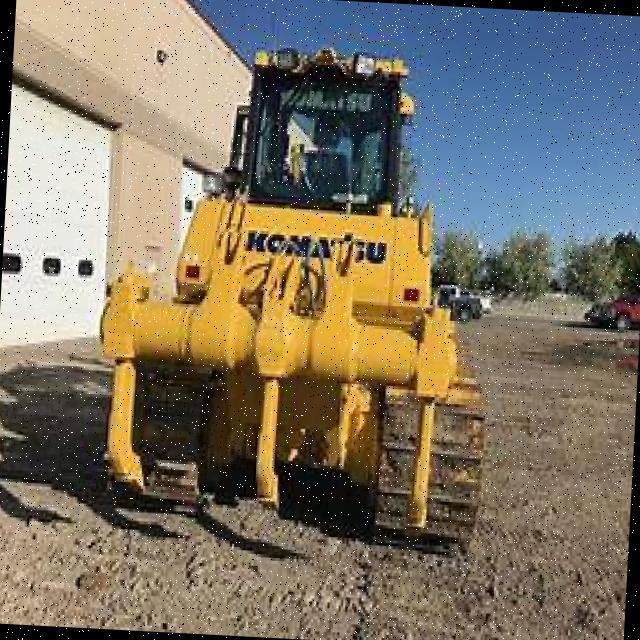Bulldozer: (61, 18, 516, 566)
